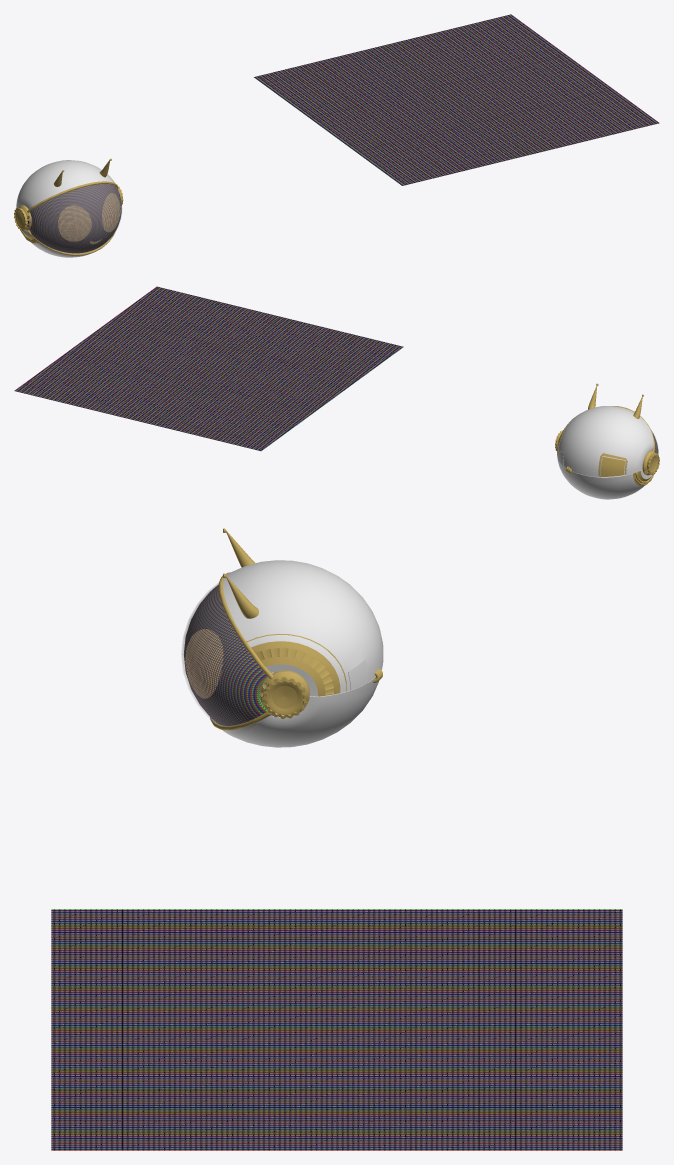
Rendered from RoboTestAgain.glb.
3 views of the same model, one above another, from view 1: azimuth 30°, elevation 25°; view 2: azimuth 150°, elevation 25°; view 3: azimuth 270°, elevation 25° (orthographic). The views are drawn at different scales.
Parts seen in each view (by area): view 1: Plane, Sphere, Sphere.001, Circle, Cylinder.001; view 2: Plane, Sphere, Circle, Cylinder.001; view 3: Plane, Sphere, Sphere.001, Cylinder.001, Circle.
Boxes of the visible parts, <box> form: Plane: <box>253,14,659,185</box>; Sphere: <box>16,160,121,257</box>; Sphere.001: <box>28,184,122,253</box>; Circle: <box>21,158,118,243</box>; Cylinder.001: <box>14,184,123,230</box>; Plane: <box>14,286,403,451</box>; Sphere: <box>557,406,658,499</box>; Circle: <box>566,383,654,485</box>; Cylinder.001: <box>555,430,659,475</box>; Plane: <box>51,909,622,1150</box>; Sphere: <box>183,560,383,747</box>; Sphere.001: <box>181,582,267,726</box>; Cylinder.001: <box>260,670,309,718</box>; Circle: <box>218,528,382,682</box>.
Size of the model in its own units: 12.49 by 2.02 by 5.55.
6 materials, 3 textured.
